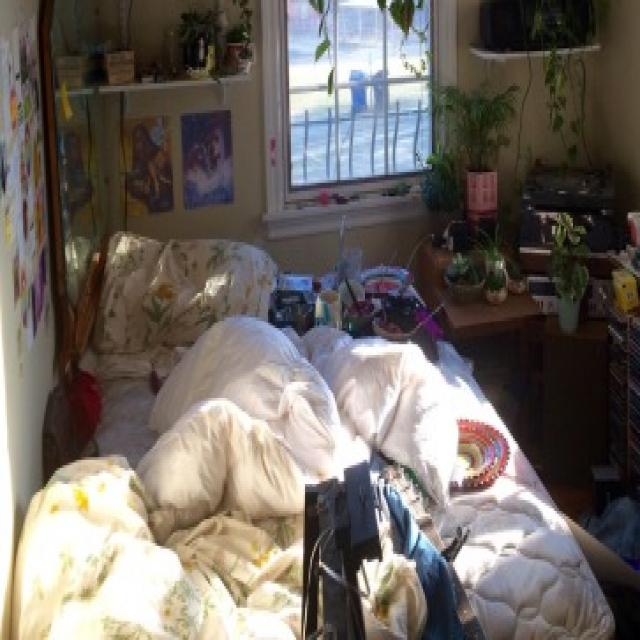bed: (12, 221, 614, 640)
